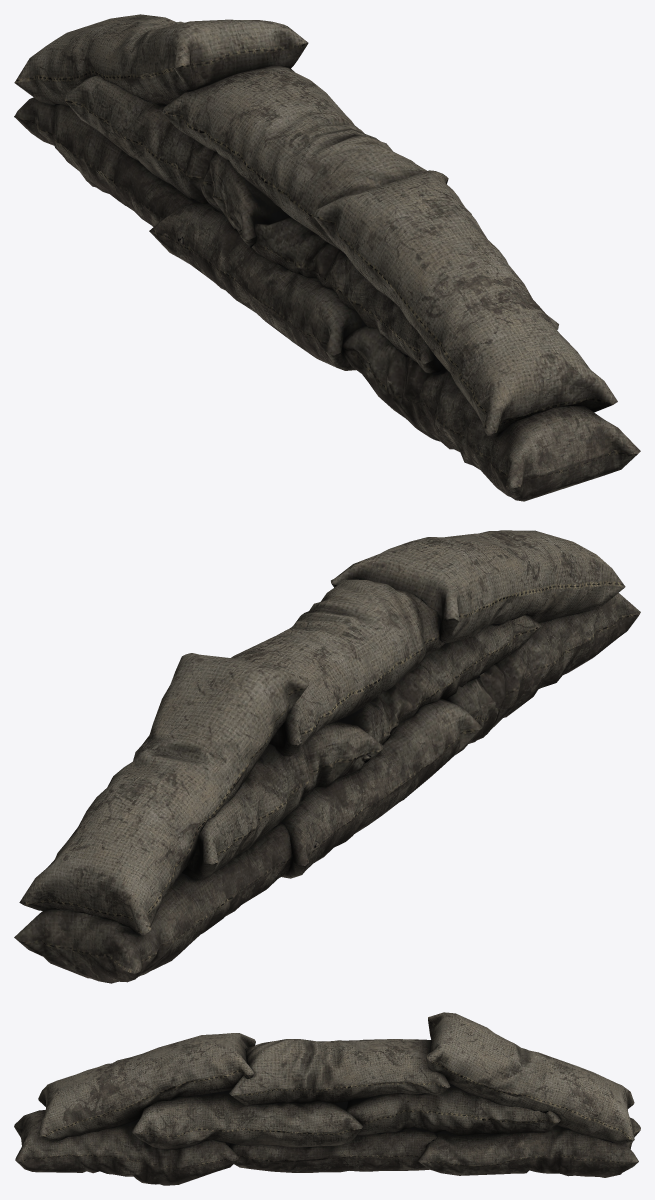
Rendered from SM_SandbagsPile_02.glb.
3 renders of one model, top to bottom at view 1: azimuth 30°, elevation 25°; view 2: azimuth 150°, elevation 25°; view 3: azimuth 270°, elevation 25°, orthographic. The views are drawn at different scales.
Visible parts, largest first — view 1: SM_SandbagsPile_02; view 2: SM_SandbagsPile_02; view 3: SM_SandbagsPile_02.
Boxes of the visible parts, x1,y1,x2,y2 form: SM_SandbagsPile_02: (14, 14, 640, 501); SM_SandbagsPile_02: (14, 530, 640, 983); SM_SandbagsPile_02: (14, 1012, 640, 1185).
Bounding box in the file's own units: 0.4202 × 0.6434 × 2.35.
1 material, 1 textured.
